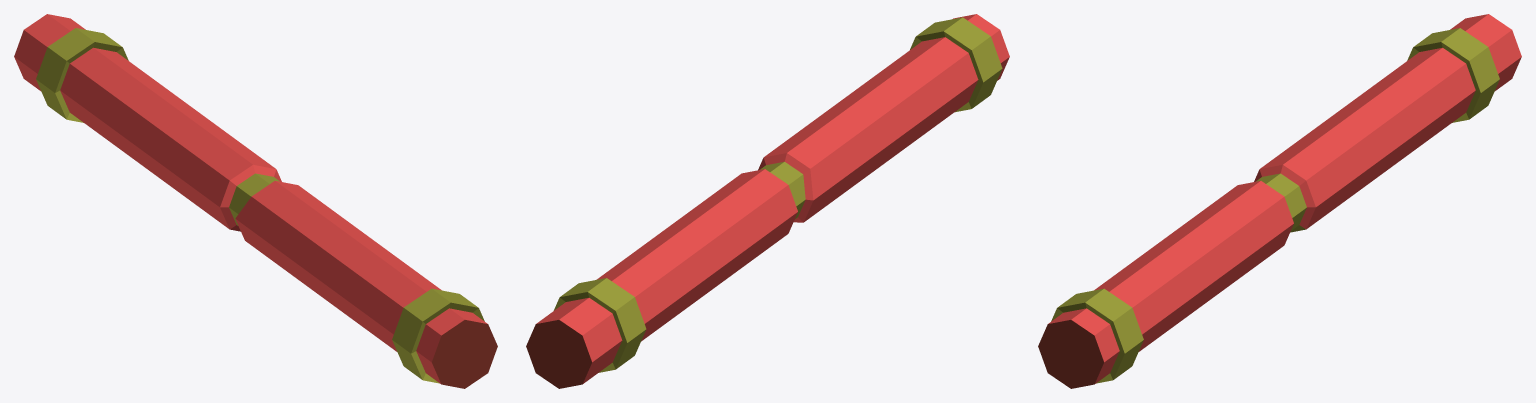
The model's file is pendSupShort.fbx.
The picture shows the model from 3 angles, left to right: view 1: azimuth 30°, elevation 25°; view 2: azimuth 150°, elevation 25°; view 3: azimuth 330°, elevation 25°; orthographic projection.
Parts seen in each view (by area): view 1: Plane; view 2: Plane; view 3: Plane.
Boxes of the visible parts, x1,y1,x2,y2 form: Plane: (14,14,497,388); Plane: (526,14,1009,388); Plane: (1038,14,1521,388).
Bounding box in the file's own units: 36.42 × 36.42 × 332.
